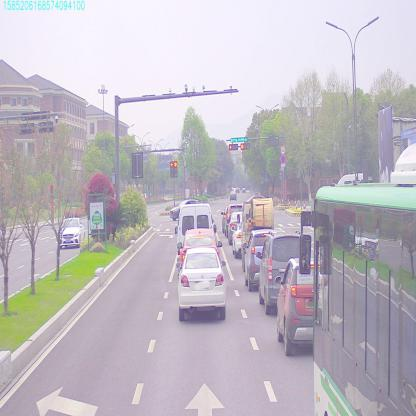traffic-light: (229, 143, 239, 152), (231, 137, 248, 142), (240, 144, 252, 150)
